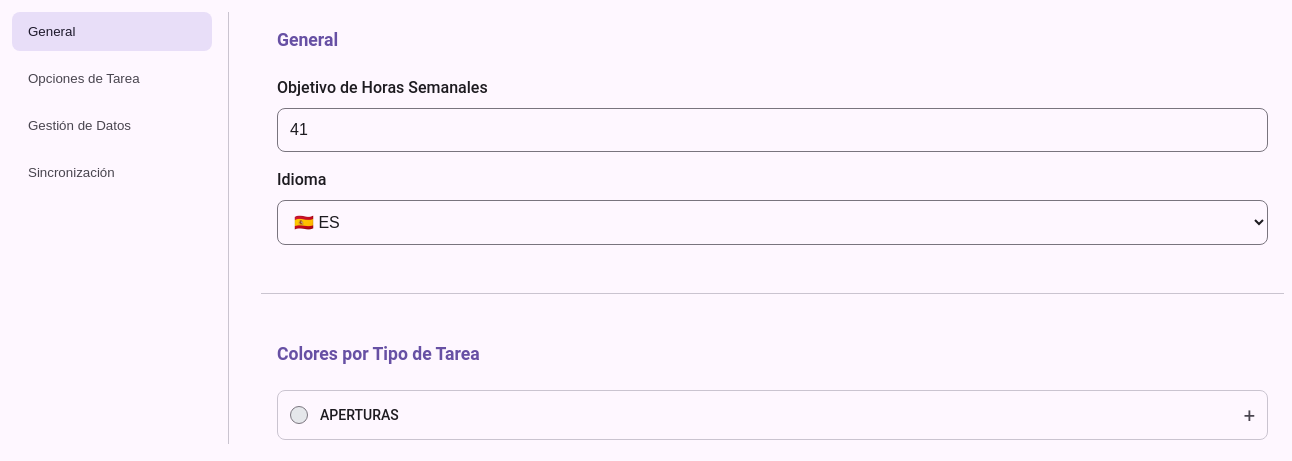
Test: Settings Tabs › should switch content when clicking "Data Management" tab
Click the button "Gestión de Datos" at {"x": 112, "y": 126}, box [12, 106, 212, 145]
(page scrolled)
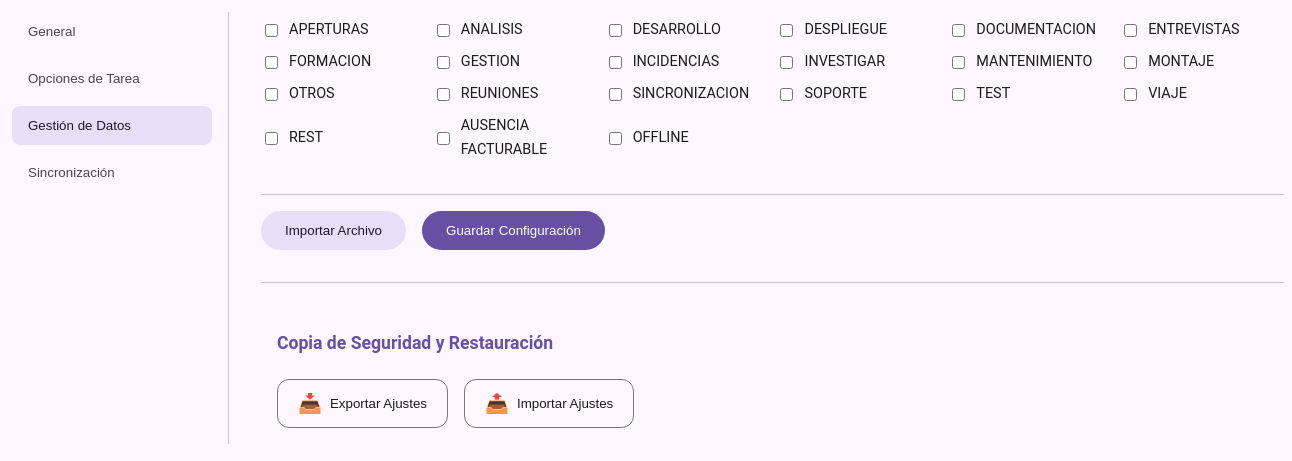
Expected: the heading "Copia de Seguridad y Restauración" is shown, [277, 333, 553, 353]
Expected: the label labelled "Objetivo de Horas Semanales" is gone
